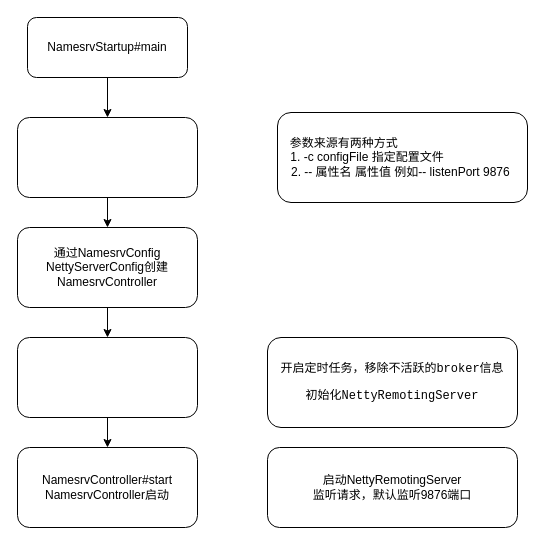
Image size: 545x545. Some labels were removed from this diagram. The shapes that lost their labels are listed below. From the top down, each one's box as (x1, y1, x2, y2) in pixels, then its label:
(16, 116, 198, 198): 解析配置文件和命令行中的参数，将配置信息解析为2个配置类NamesrvConfig NettyServerConfig
(16, 336, 198, 418): NamesrvController#initialize NamesrvController初始化
